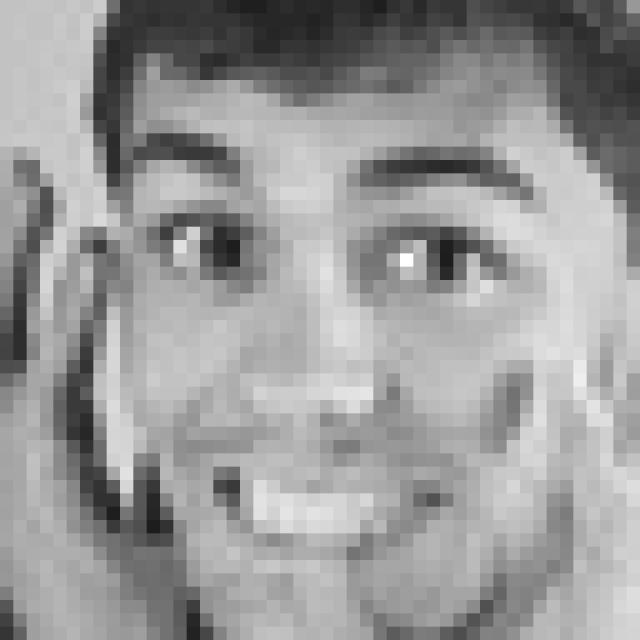happy: (131, 123, 541, 582)
